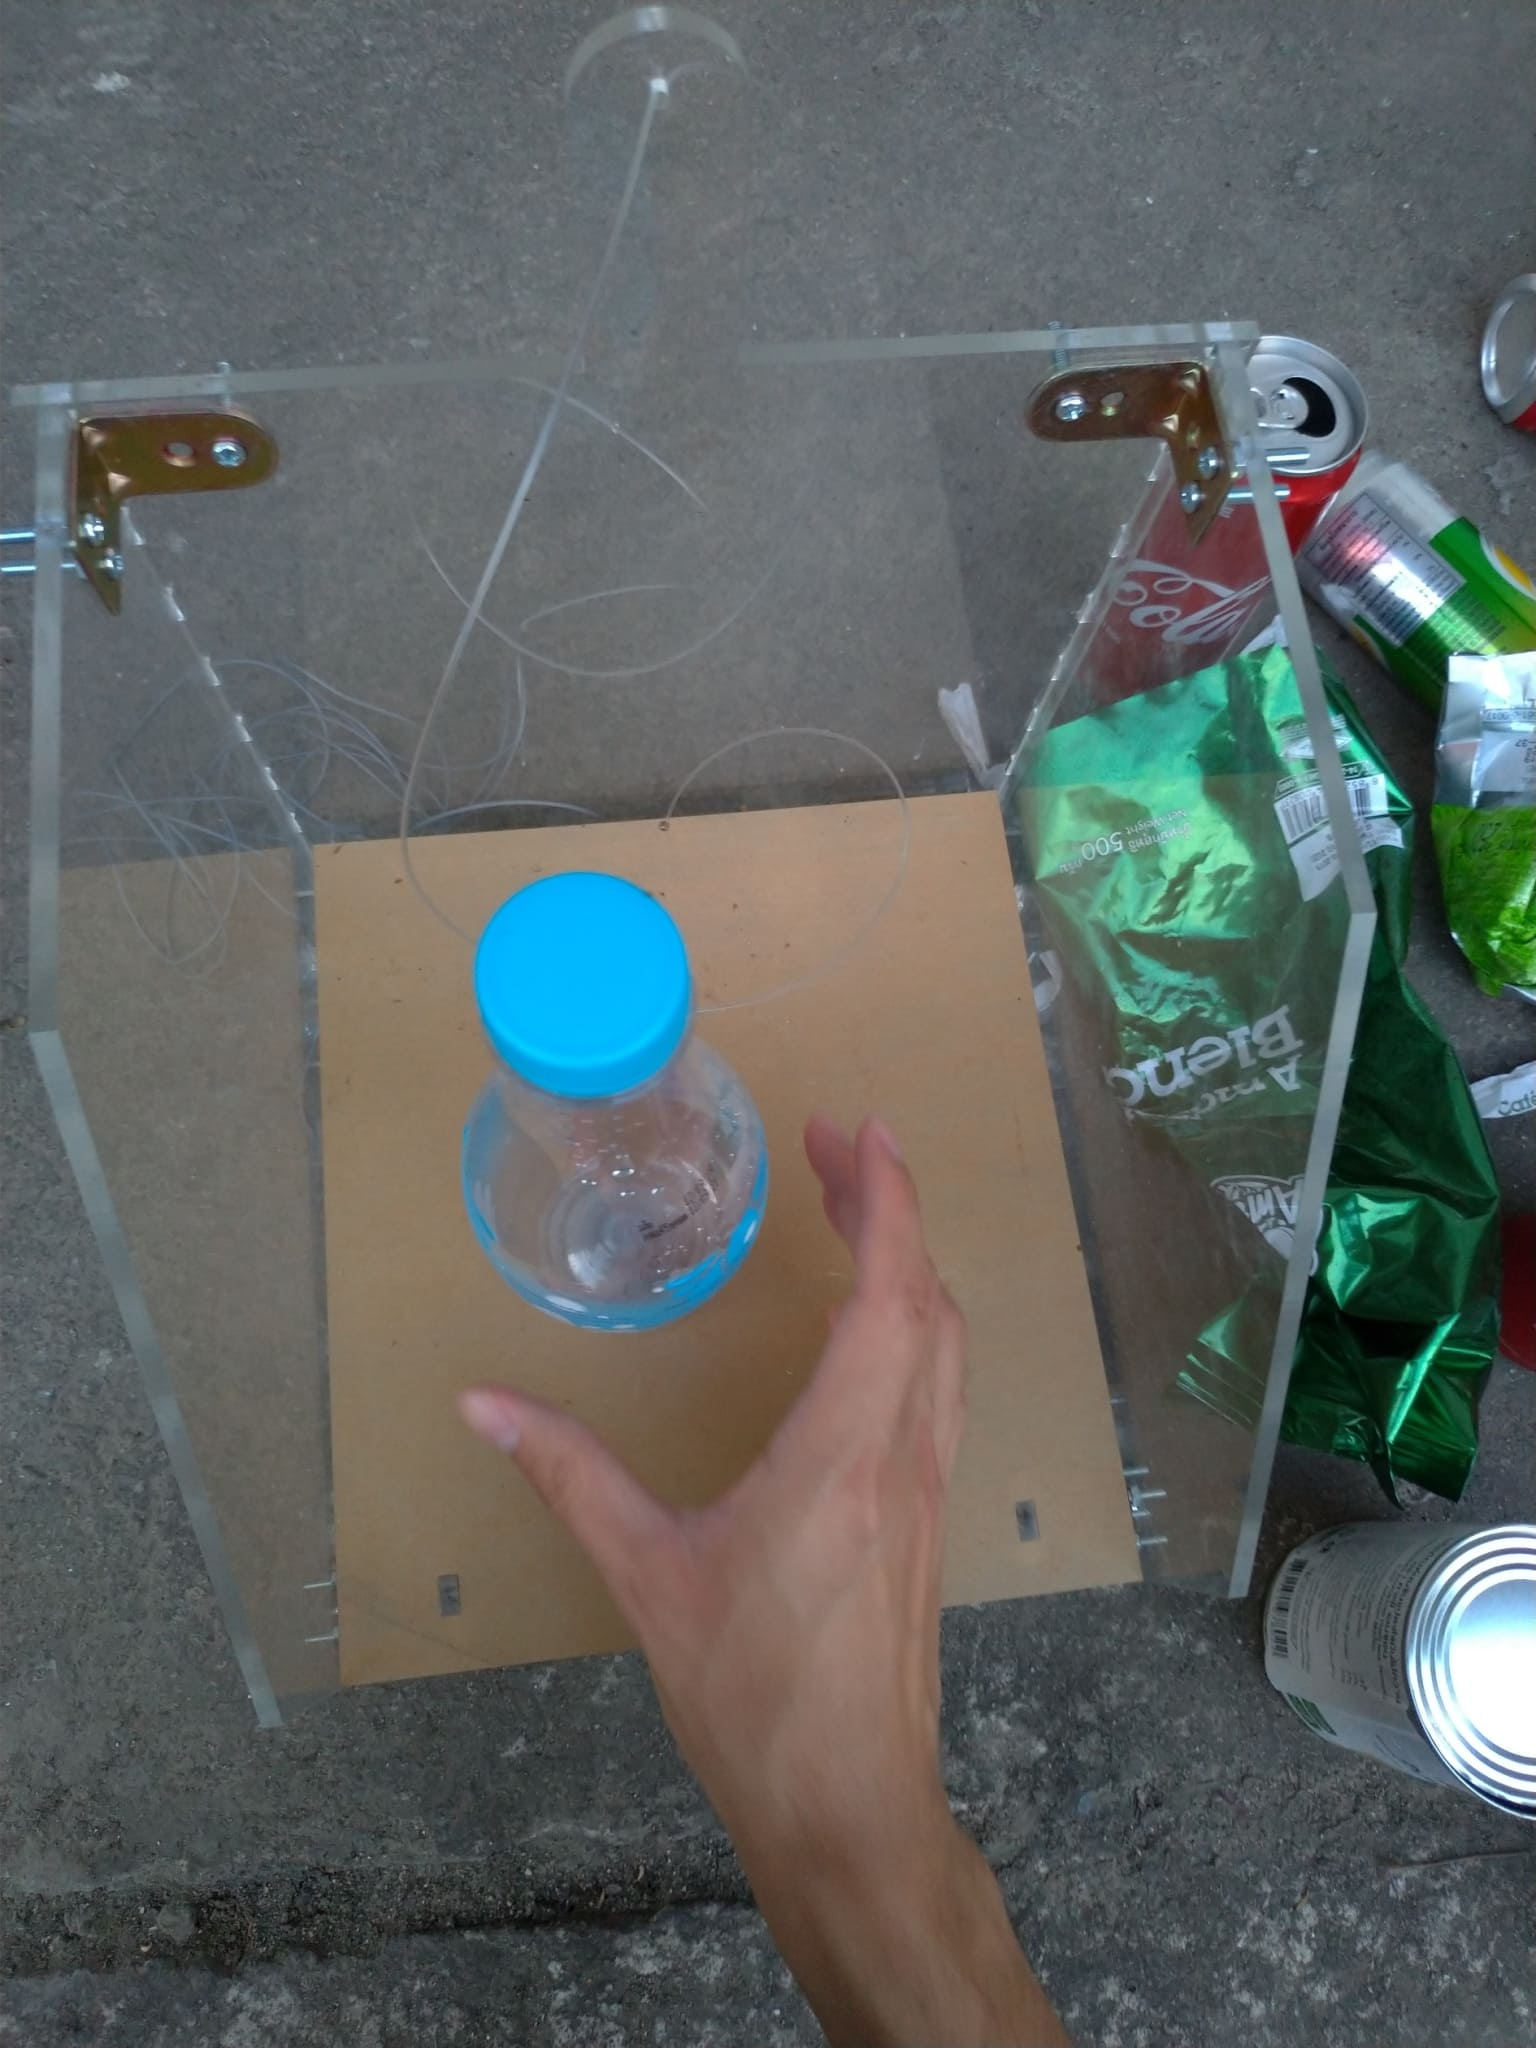AlCan: (1073, 335, 1363, 716), (1321, 464, 1536, 676)
Others: (1008, 655, 1492, 1506), (1402, 626, 1536, 1130)
PlasticBottle: (457, 874, 776, 1329)
